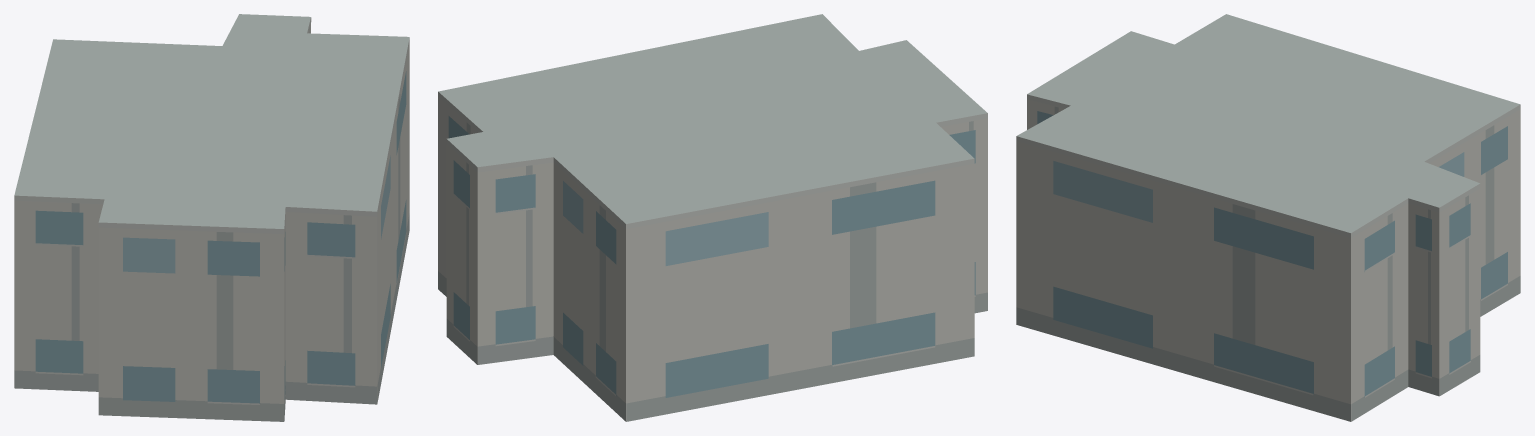
Rendered from survey-upis-32983792.glb.
3 renders of one model, left to right at view 1: azimuth 30°, elevation 25°; view 2: azimuth 150°, elevation 25°; view 3: azimuth 270°, elevation 25°, orthographic. The views are drawn at different scales.
Visible parts, largest first — view 1: survey-upis-32983792.tmp; view 2: survey-upis-32983792.tmp; view 3: survey-upis-32983792.tmp.
Boxes of the visible parts, x1,y1,x2,y2 form: survey-upis-32983792.tmp: (14,14,409,421); survey-upis-32983792.tmp: (438,14,987,421); survey-upis-32983792.tmp: (1016,14,1520,421).
Size of the model in its own units: 22.82 by 9.15 by 22.18.
